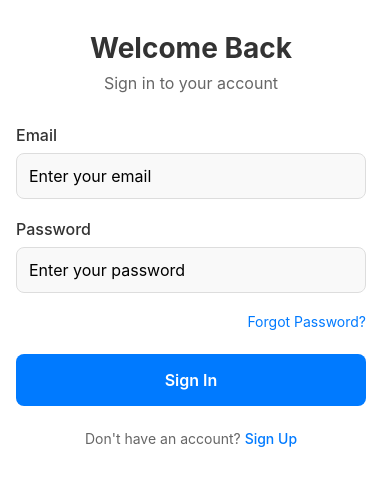
LoginScreen › Form Validation › should display appropriate error messages for invalid inputs
Test multiple validation errors
Type "not-an-email" into the field with placeholder "Enter your email" at (191, 176), box [16,153,366,199]
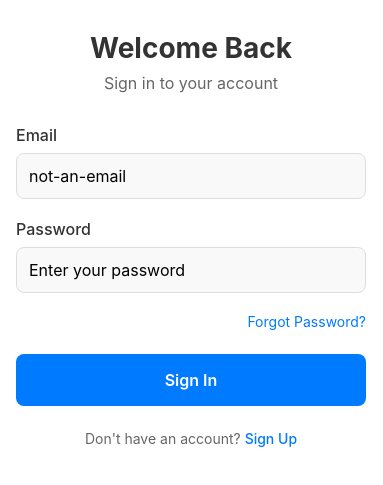
Type "12" into the password field with placeholder "Enter your password" at (191, 270), box [16,247,366,293]
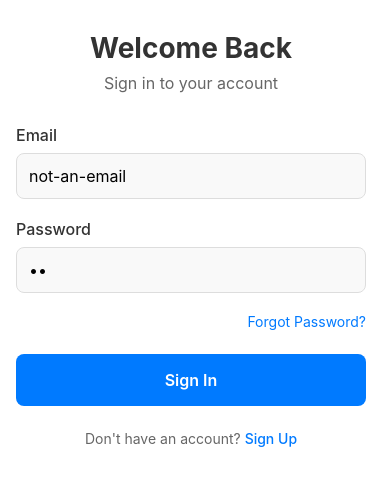
Click the text "Sign In" at (191, 380), box [165,370,217,390]
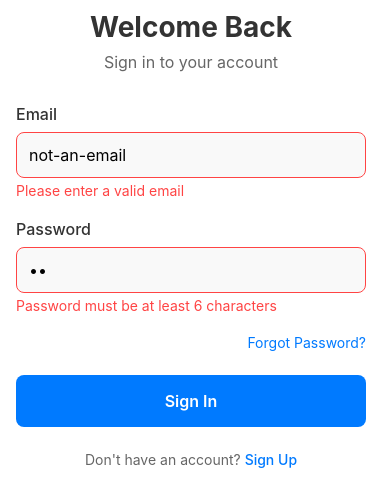
Expected: the text "Please enter a valid email" is shown, [16,182,184,199]
Expected: the text "Password must be at least 6 characters" is shown, [16,297,277,314]
